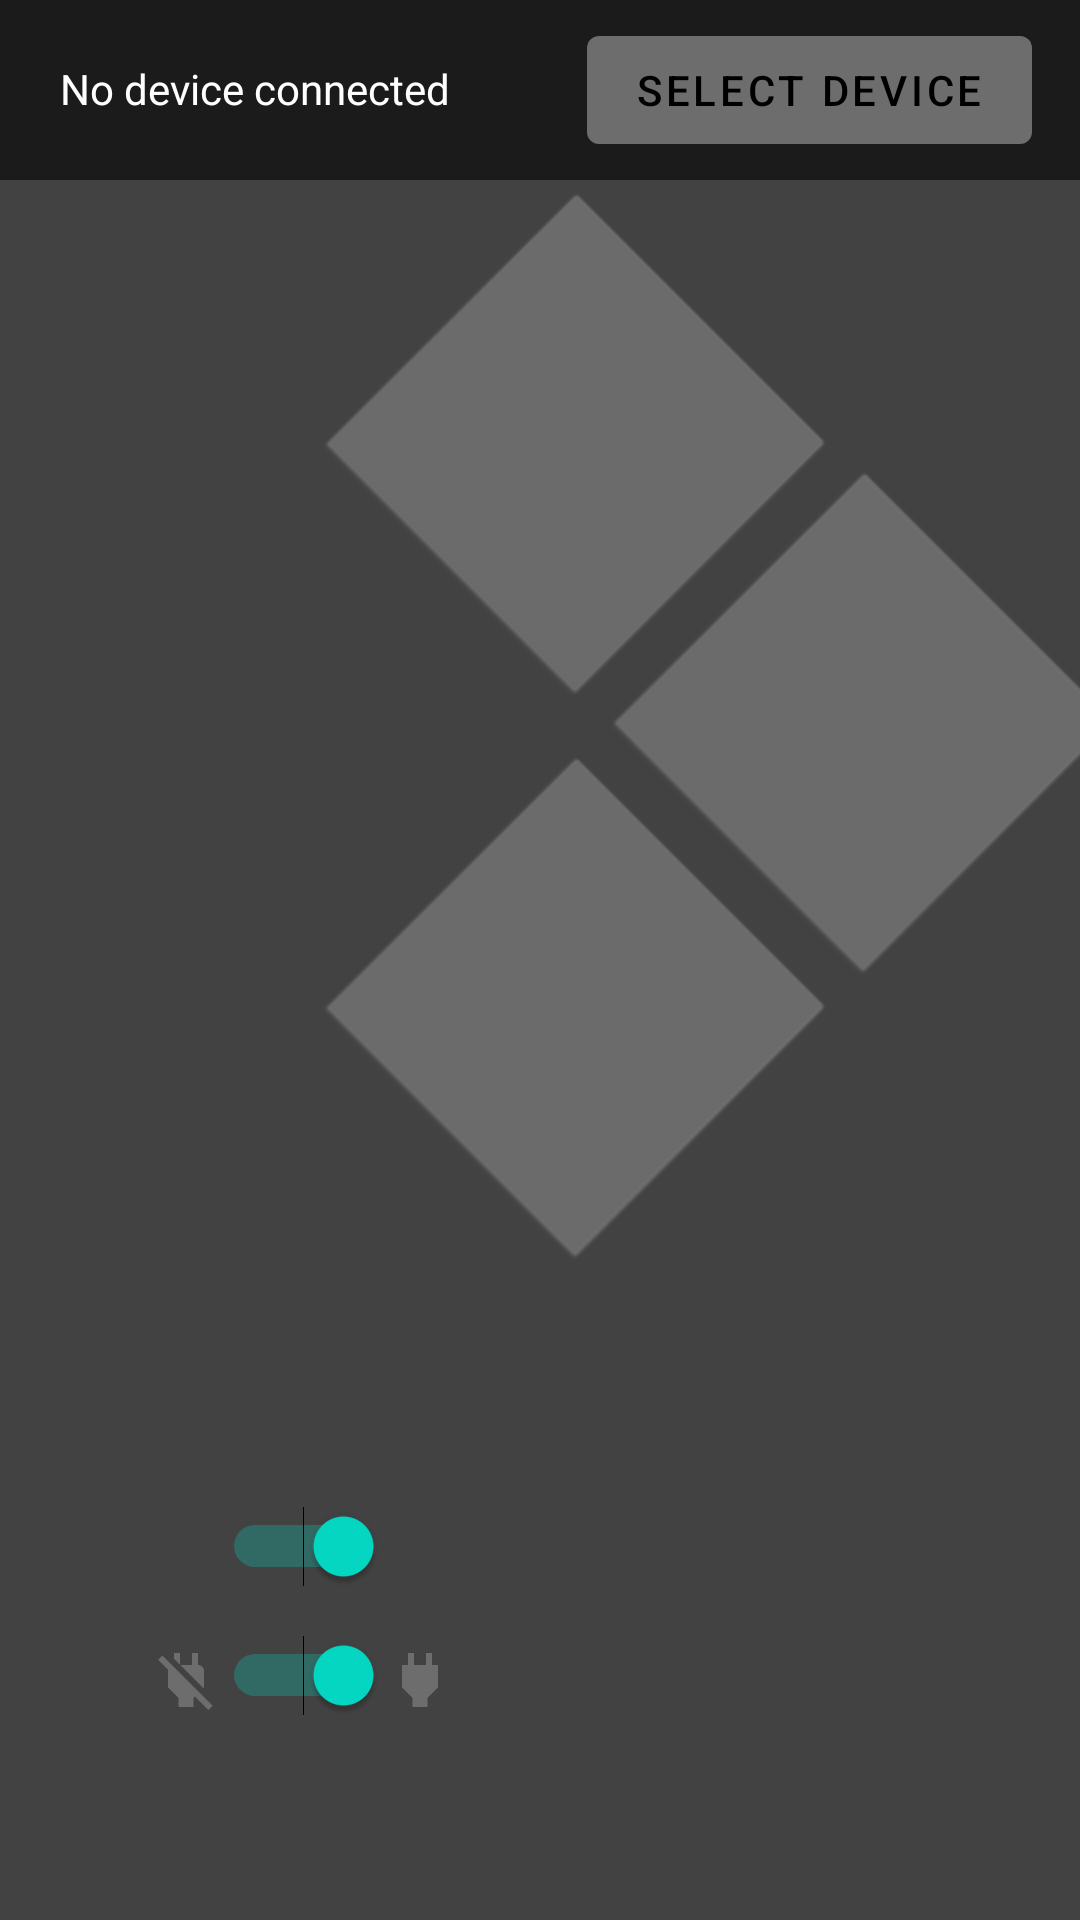

Point at icon controls on the screen. Image size 1080 x 1920, points as point (x, y).
power: point (420, 1680)
power off: point (185, 1681)
